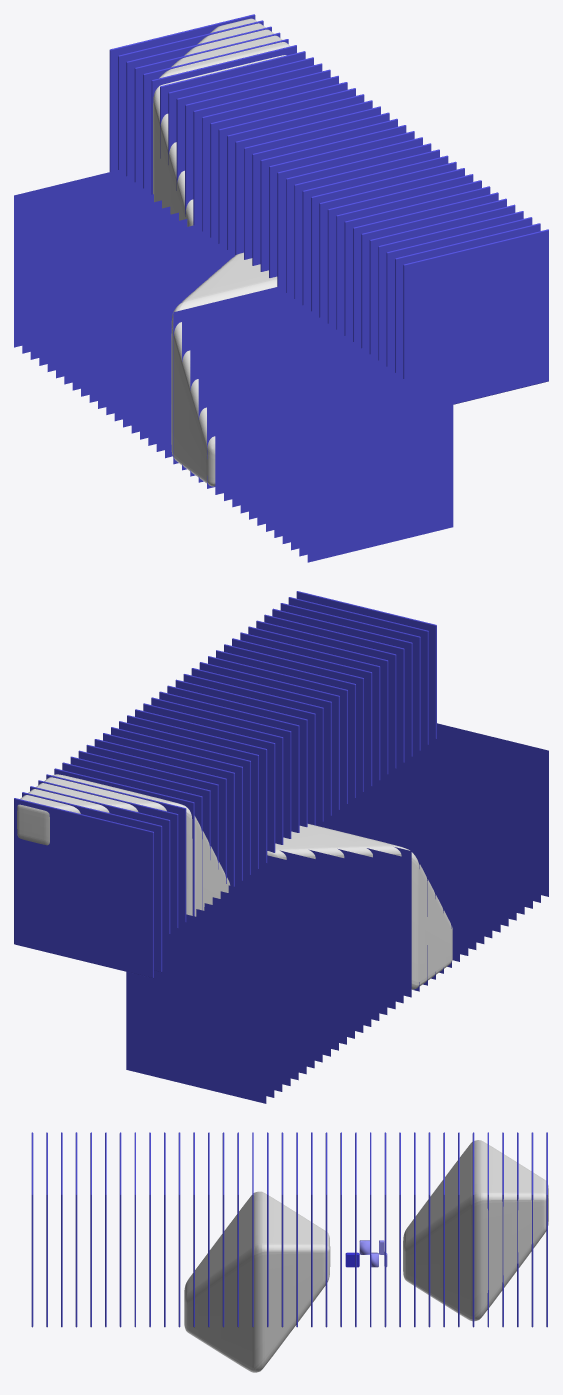
Rendered from banner.glb.
3 renders of one model, top to bottom at view 1: azimuth 30°, elevation 25°; view 2: azimuth 150°, elevation 25°; view 3: azimuth 270°, elevation 25°, orthographic. The views are drawn at different scales.
Parts seen in each view (by area): view 1: panel_l, panel_r, box; view 2: panel_r, panel_l, box; view 3: box, panel_r.
Part boxes in pixels (<box>): panel_l: <box>14,168,453,562</box>; panel_r: <box>109,14,548,404</box>; box: <box>153,18,289,486</box>; panel_r: <box>14,591,436,978</box>; panel_l: <box>126,723,548,1103</box>; box: <box>17,774,452,989</box>; box: <box>184,1140,548,1372</box>; panel_r: <box>31,1132,547,1327</box>.
Size of what is drawn, in the model's own units: 3.46 by 3.48 by 7.27.
